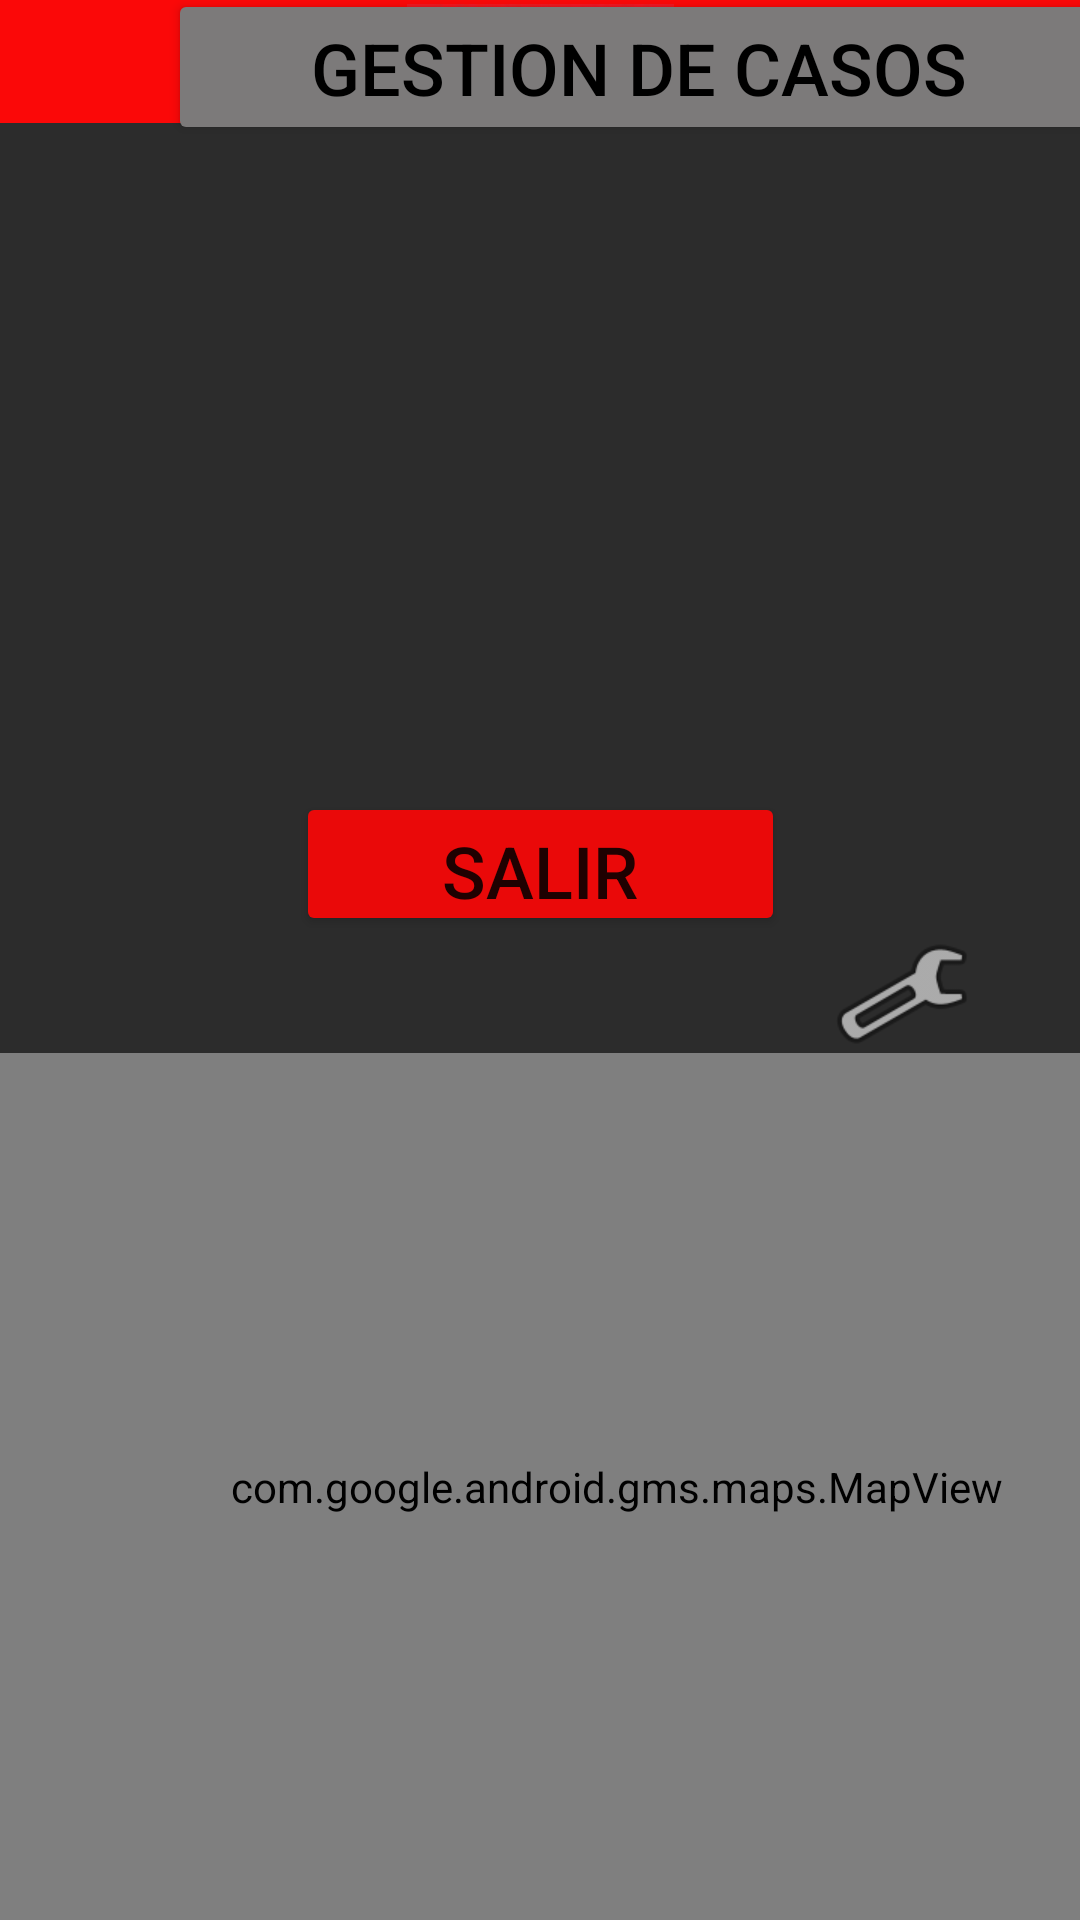

Point at icon controls on the screen. Image size 1080x1920, points as [x,y].
manage: [902,994]
